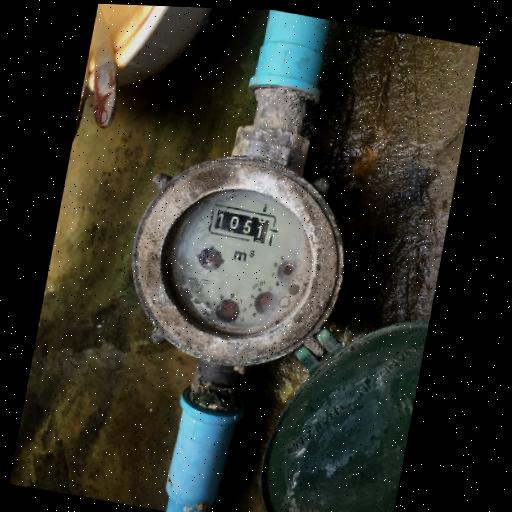0: (227, 213, 241, 233)
1: (253, 217, 268, 244), (214, 210, 227, 231)
5: (240, 215, 255, 236)
border_water_meter_number: (206, 204, 281, 248)
